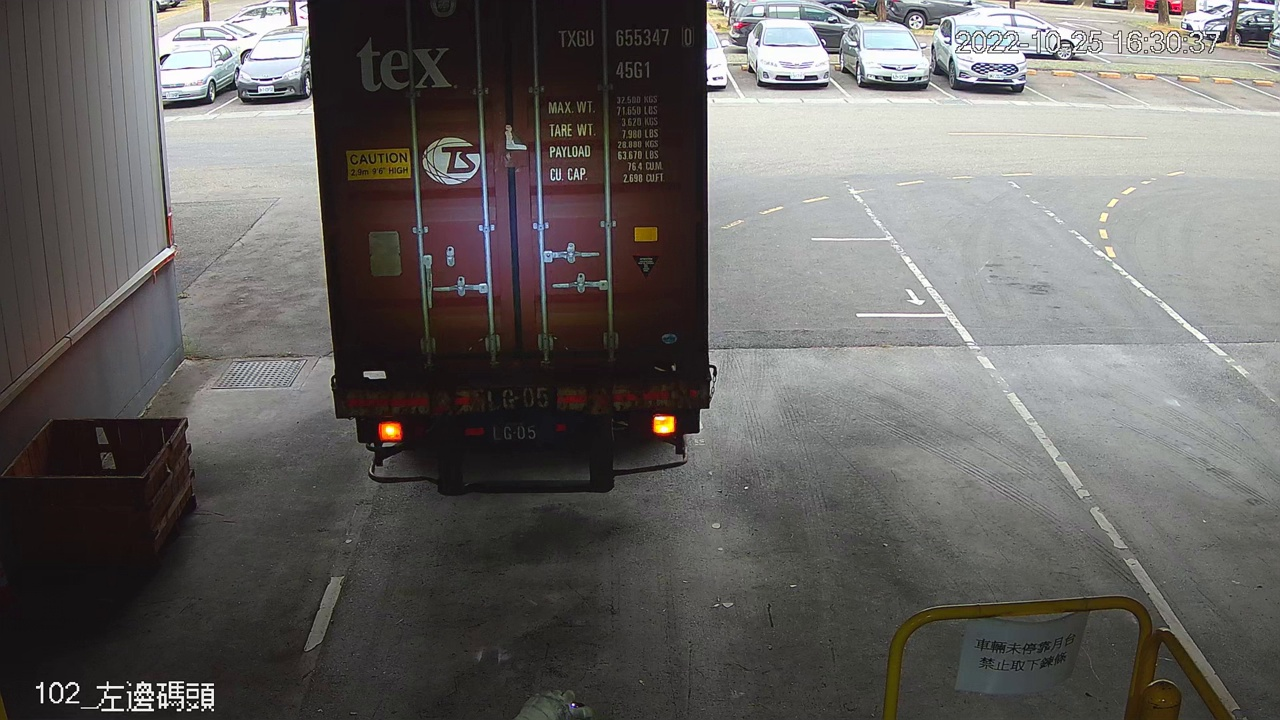container: (547, 18, 701, 84)
